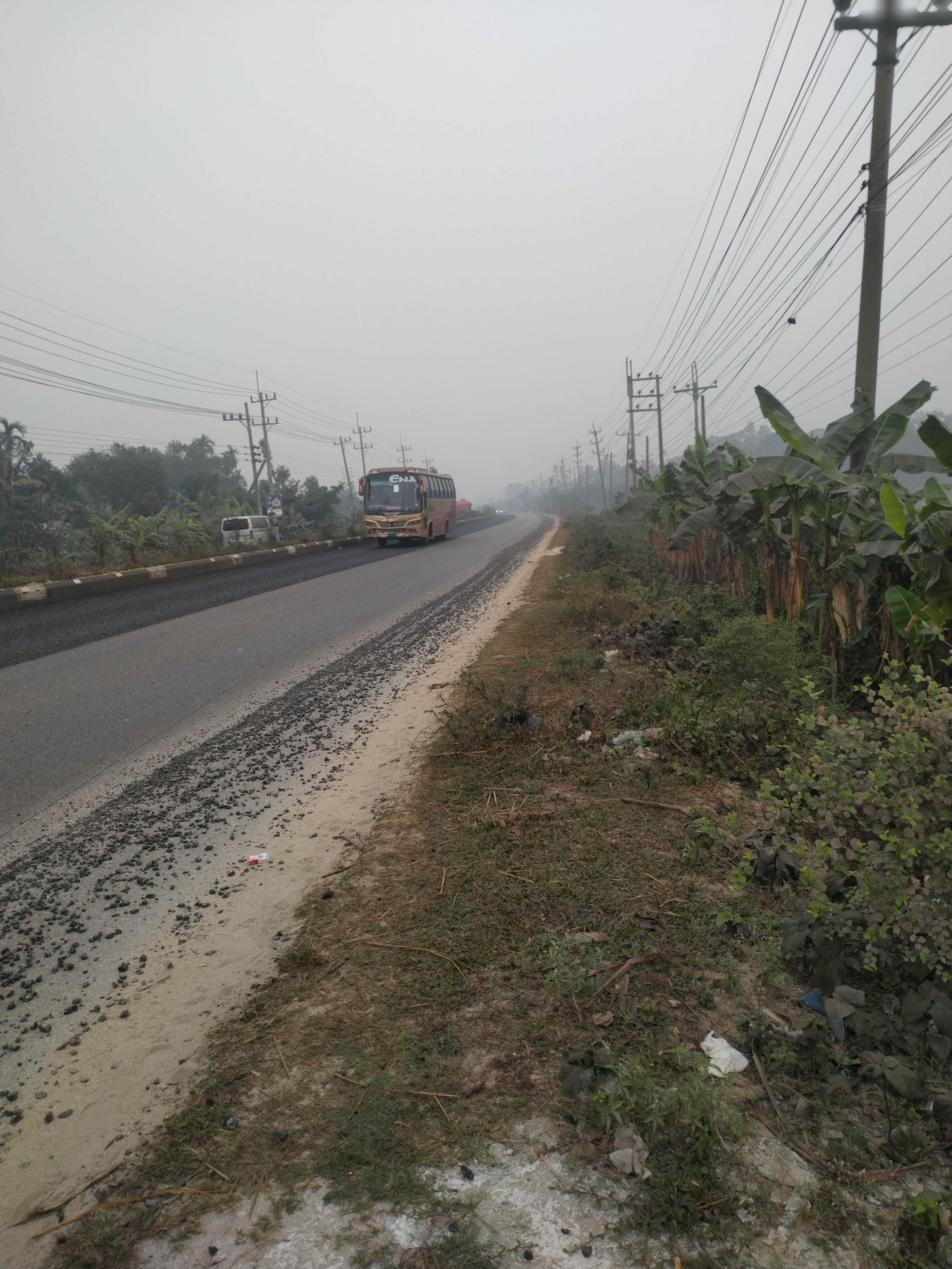Bus: (350, 457, 473, 569)
Car: (200, 498, 287, 554)
